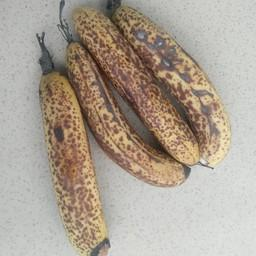Bad_banana: (32, 0, 228, 252)
